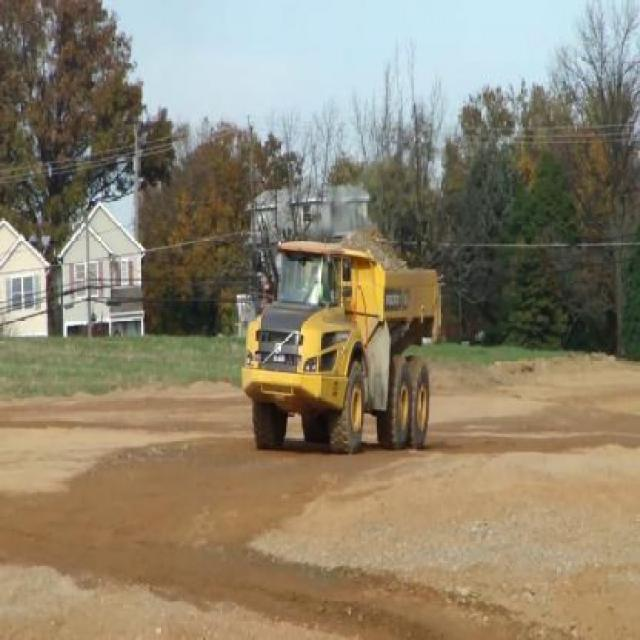Dump Truck: (238, 226, 442, 454)
